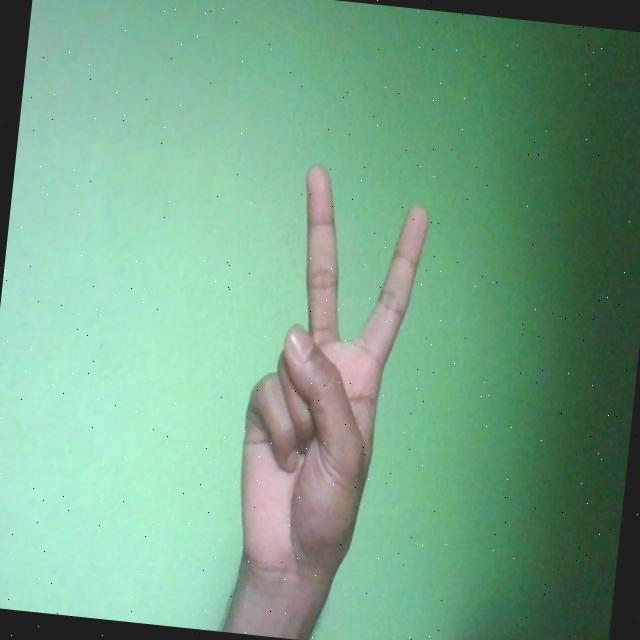Fist: (226, 158, 434, 594)
